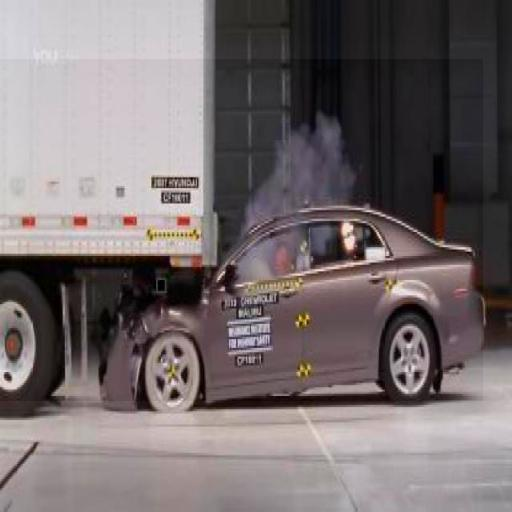小汽车撞小汽车: (0, 59, 483, 401)
